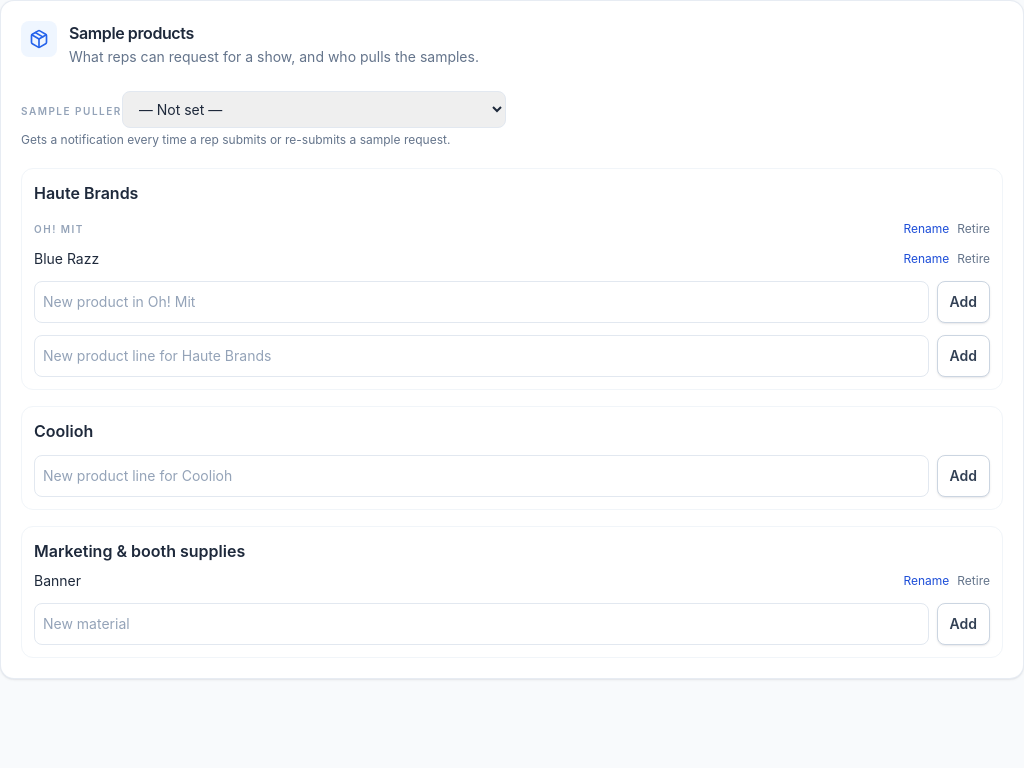
it: SampleCatalogSection › adds a product under a line
Expected: the text "Blue Razz" is shown, [34,249,99,269]
Type "Pink Rozay" into the field labelled "New product in Oh! Mit" at (481, 302), box [34,281,928,323]
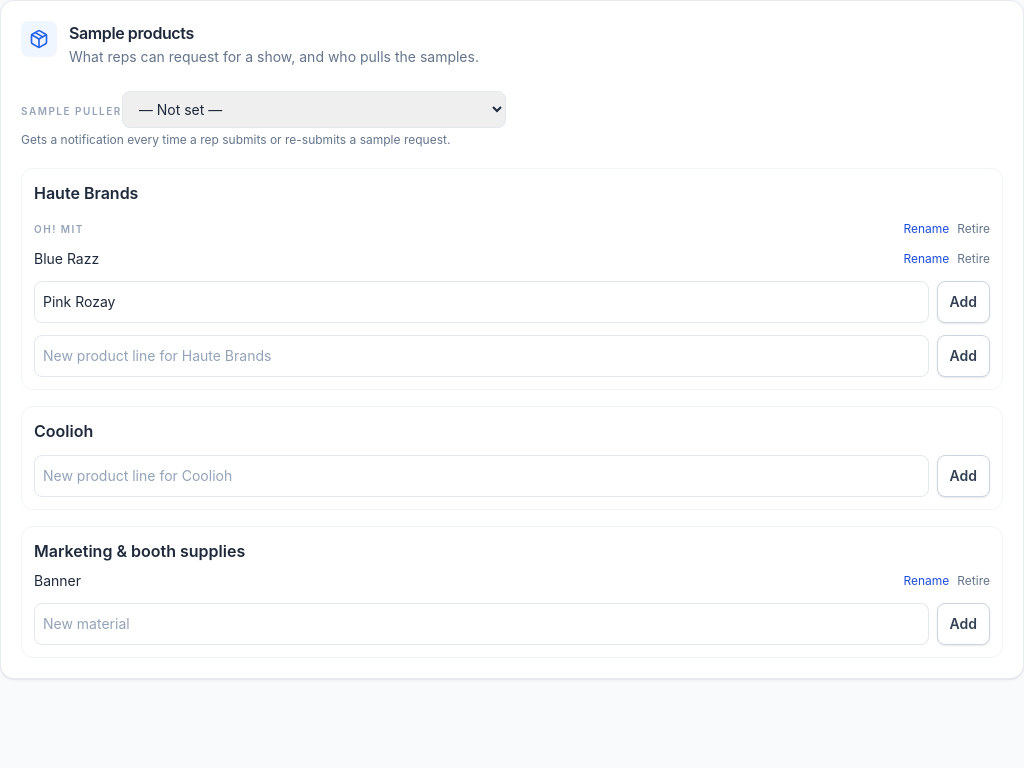
Click the button with aria-label "Add product to Oh! Mit" at (963, 302), box [936,281,990,323]
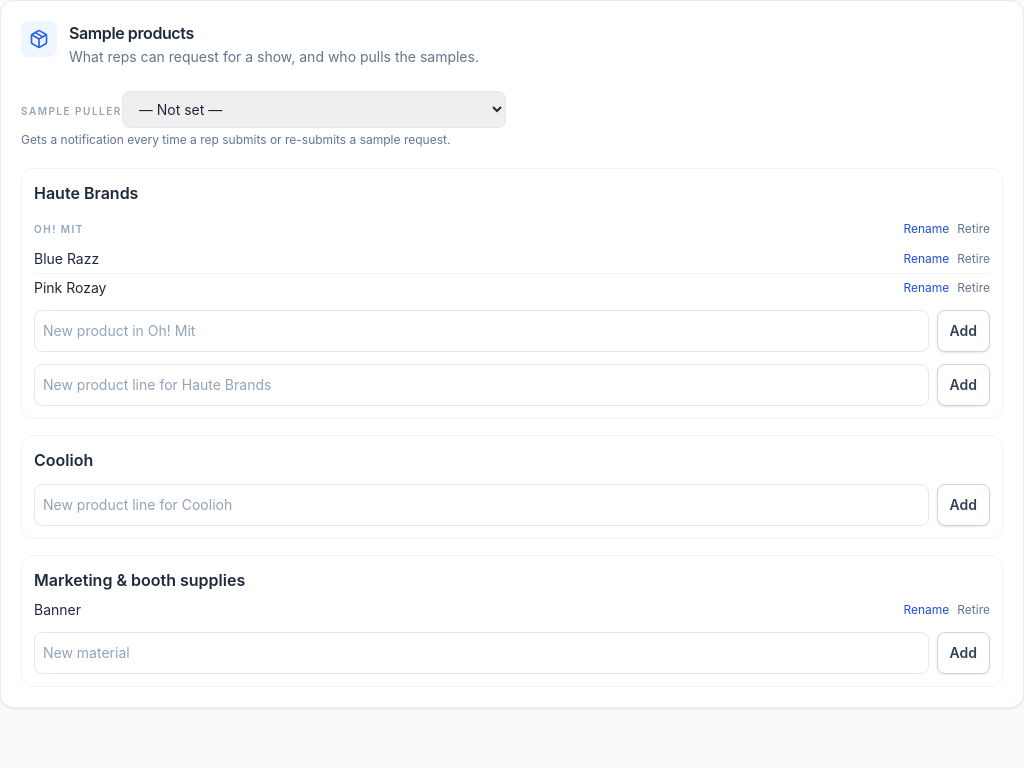
Expected: the text "Pink Rozay" is shown, [34,278,106,298]
